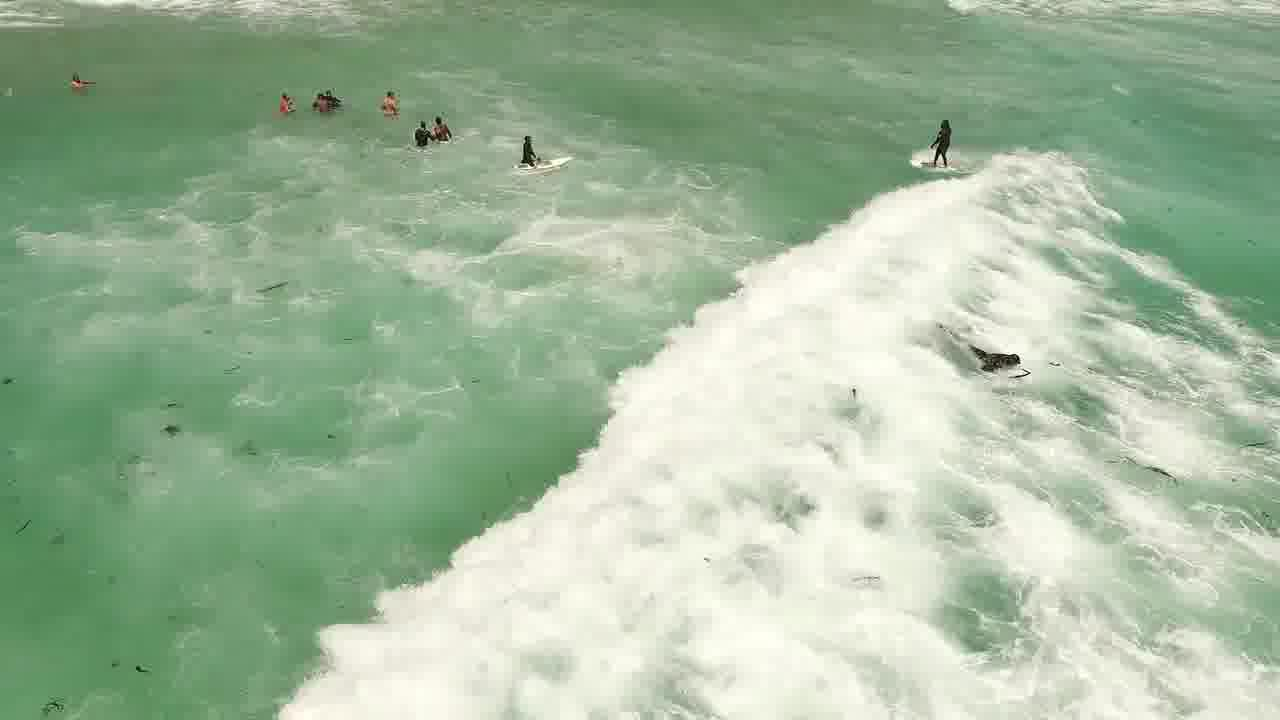human: (58, 64, 103, 100), (306, 84, 352, 119), (374, 86, 425, 117), (261, 84, 298, 117)
